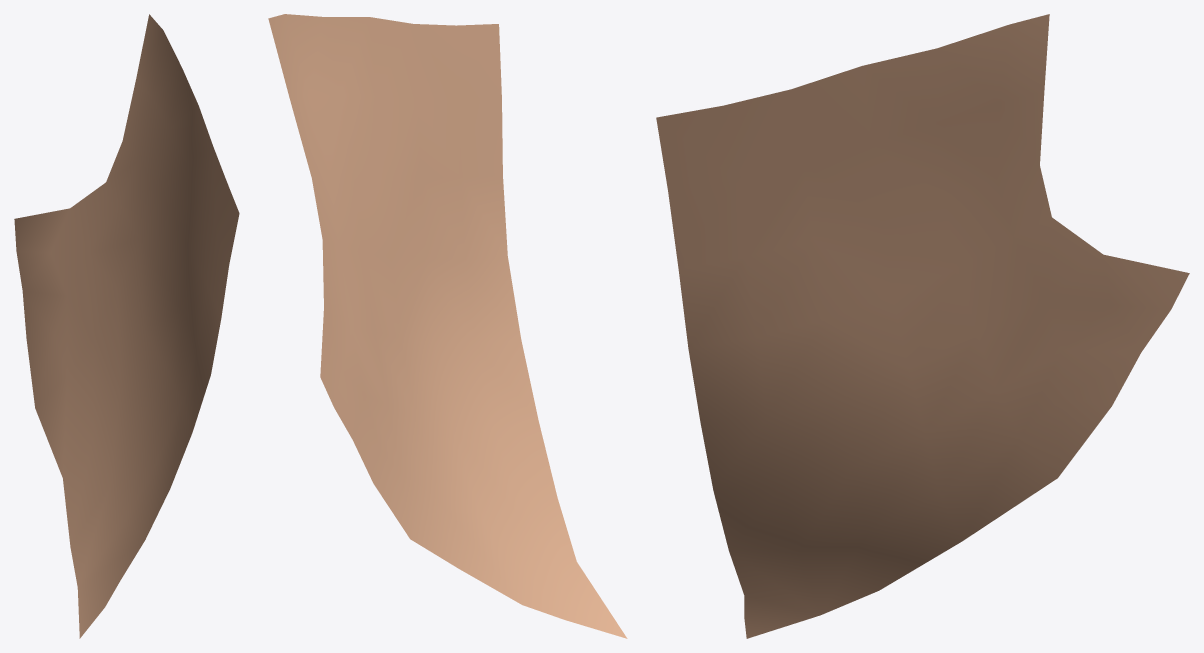
The model's file is parotideomasseteric-region-l.glb.
The picture shows the model from 3 angles, left to right: view 1: azimuth 30°, elevation 25°; view 2: azimuth 150°, elevation 25°; view 3: azimuth 270°, elevation 25°; orthographic projection. The views are drawn at different scales.
Visible parts, largest first — view 1: Parotideomasseteric region.l; view 2: Parotideomasseteric region.l; view 3: Parotideomasseteric region.l.
Boxes of the visible parts, x1,y1,x2,y2 form: Parotideomasseteric region.l: (14, 14, 239, 638); Parotideomasseteric region.l: (268, 14, 627, 638); Parotideomasseteric region.l: (656, 14, 1189, 638).
Size of the model in its own units: 0.0244 by 0.0684 by 0.0442.
